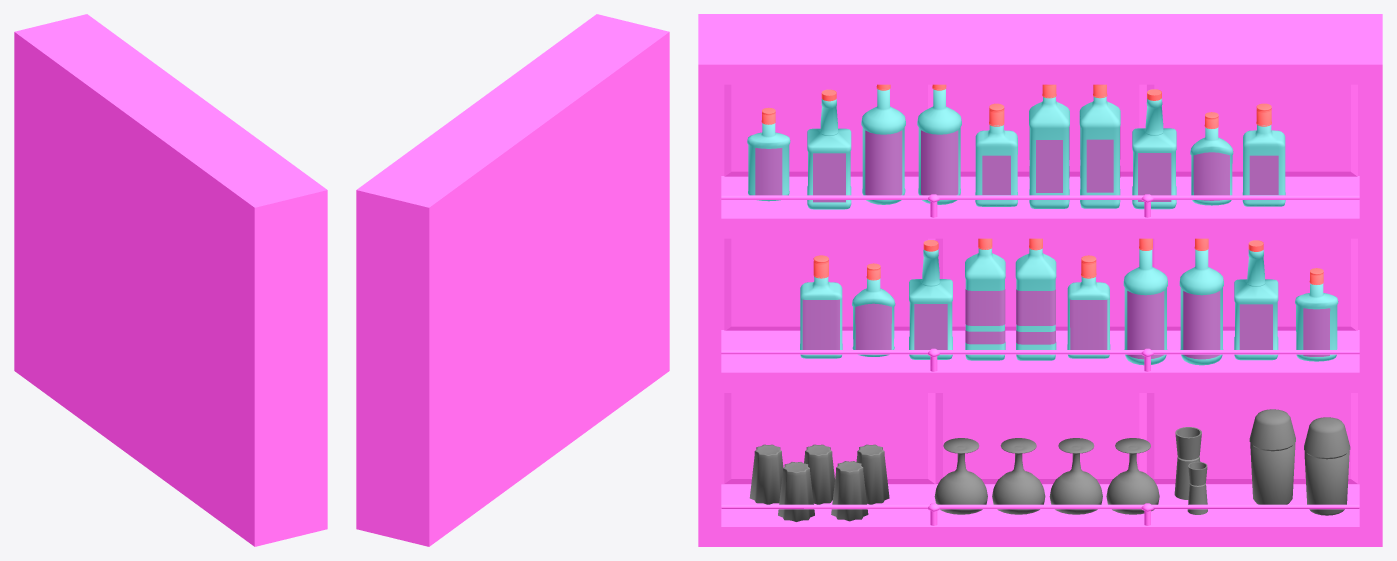
File: BaeFin.fbx
3 views of the same model, side by side, from view 1: azimuth 30°, elevation 25°; view 2: azimuth 150°, elevation 25°; view 3: azimuth 270°, elevation 25° (orthographic). The views are drawn at different scales.
Visible parts, largest first — view 1: Cylinder004; view 2: Cylinder004; view 3: Cylinder004, Object014, Object013, Object003, Object004, Object010, Object006, Object019, Object016, Object008, Object017, Object002 (+22 smaller).
Boxes of the visible parts, x1=… form: Cylinder004: x1=14, y1=14, x2=327, y2=546; Cylinder004: x1=356, y1=14, x2=669, y2=546; Cylinder004: x1=698, y1=14, x2=1382, y2=546; Object014: x1=1029, y1=84, x2=1069, y2=208; Object013: x1=1079, y1=84, x2=1120, y2=208; Object003: x1=965, y1=238, x2=1005, y2=360; Object004: x1=1015, y1=238, x2=1056, y2=360; Object010: x1=1179, y1=238, x2=1223, y2=365; Object006: x1=1123, y1=238, x2=1167, y2=365; Object019: x1=861, y1=84, x2=905, y2=204; Object016: x1=917, y1=84, x2=961, y2=204; Object008: x1=1234, y1=240, x2=1278, y2=360; Object017: x1=807, y1=89, x2=851, y2=209; Object002: x1=909, y1=240, x2=952, y2=359.
Bounding box in the file's own units: 200 × 884 × 1136.
